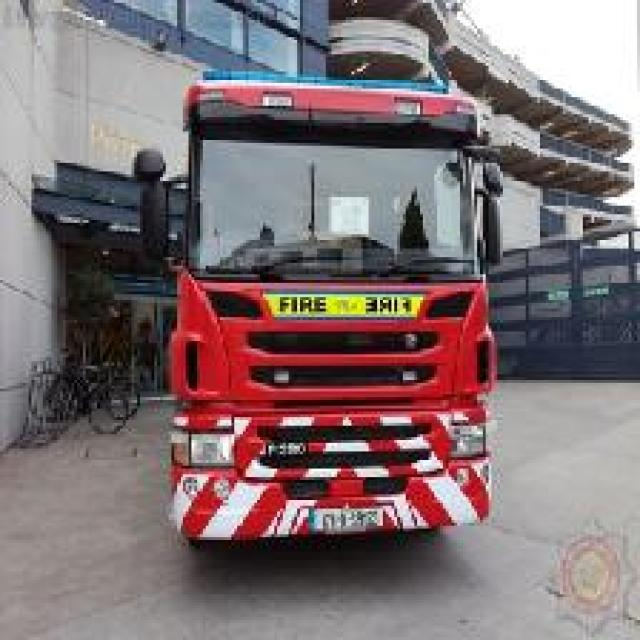Fire-truck: (163, 66, 503, 548)
